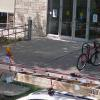Bicycle: (78, 37, 99, 71)
